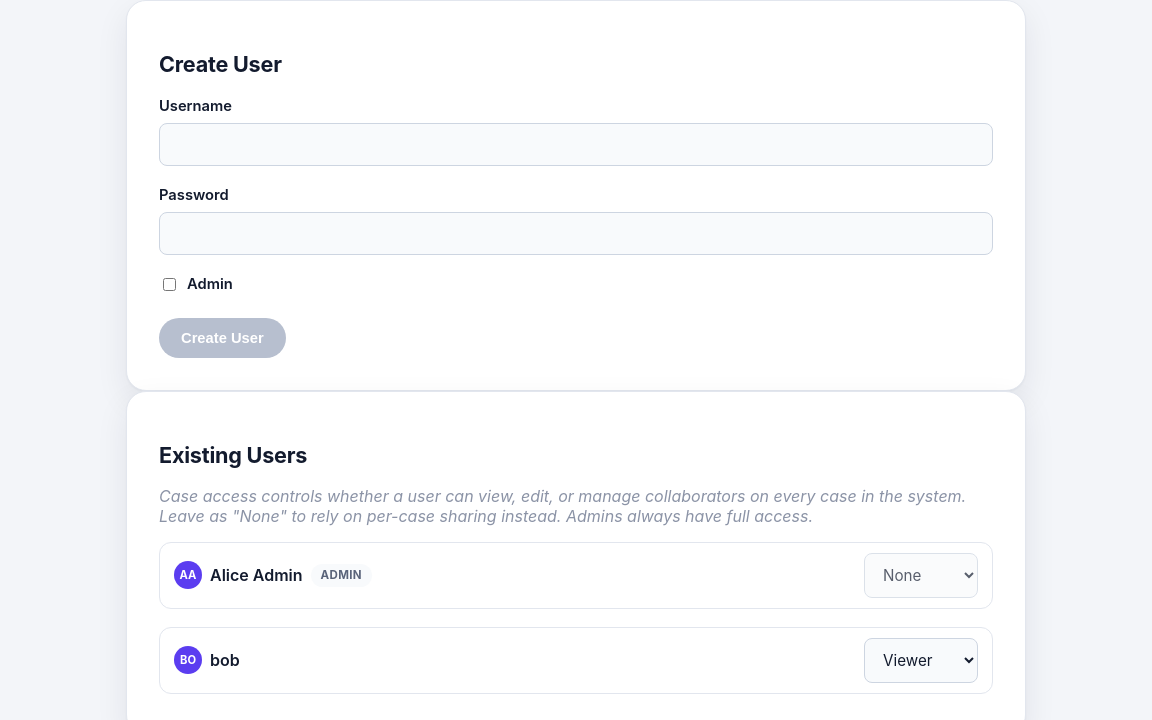
Scenario: ManageUsers › keeps the create button disabled until both fields are filled
Expected: the text "bob" is shown, x1=210 y1=650 x2=240 y2=670
Expected: the button "Create User" is disabled, x1=159 y1=318 x2=286 y2=358
Type "carol" into the field labelled "Username" at (576, 144), box x1=159 y1=123 x2=993 y2=166
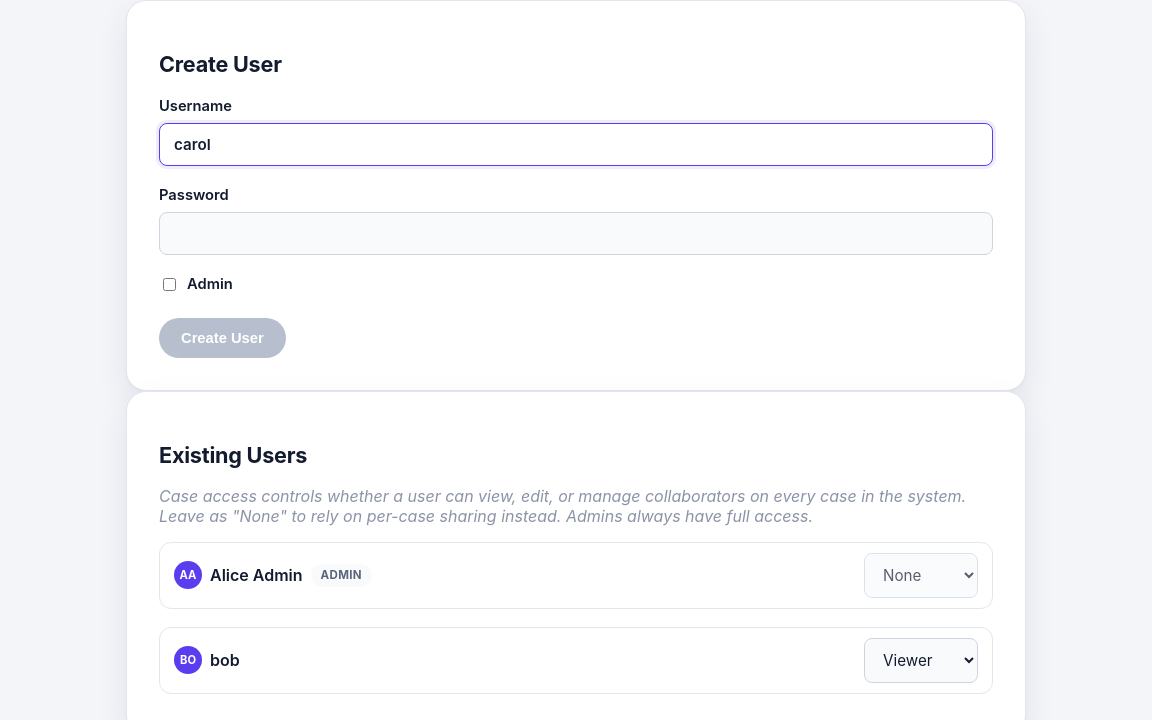
Expected: the button "Create User" is disabled, x1=159 y1=318 x2=286 y2=358
Type "carolpass1" into the password field labelled "Password" at (576, 233), box x1=159 y1=212 x2=993 y2=255
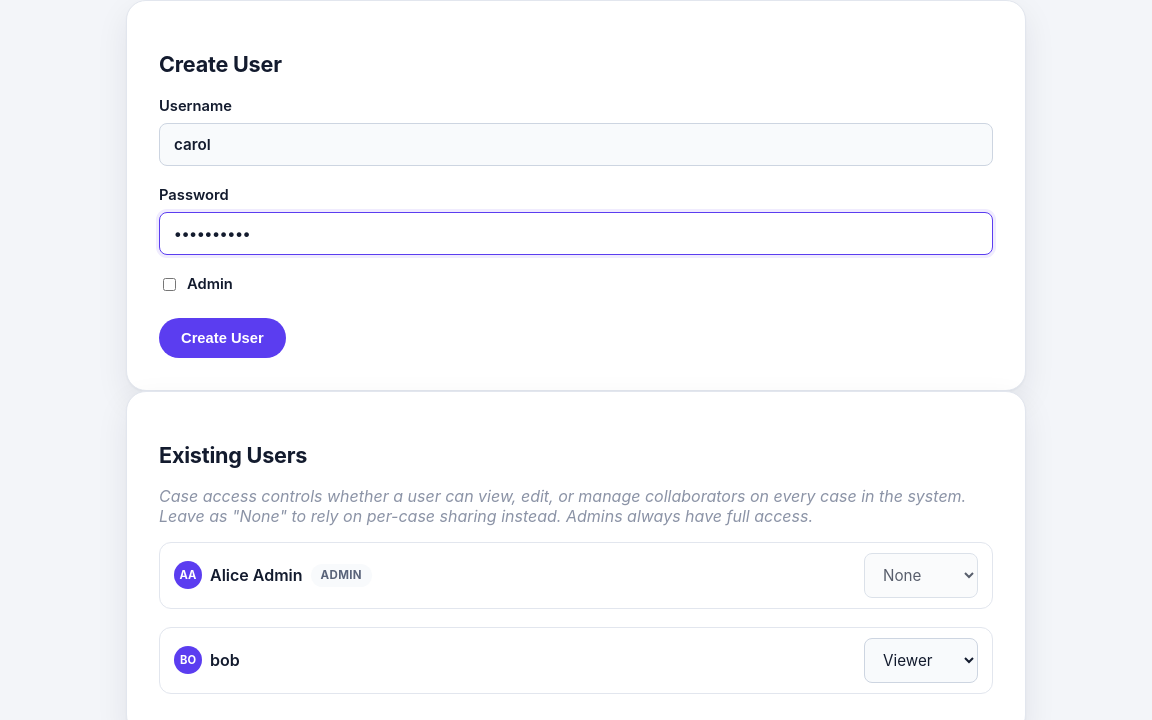
Expected: the button "Create User" is enabled, x1=159 y1=318 x2=286 y2=358
